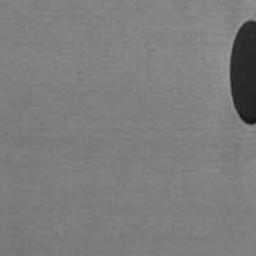Punching: (230, 21, 256, 125)
